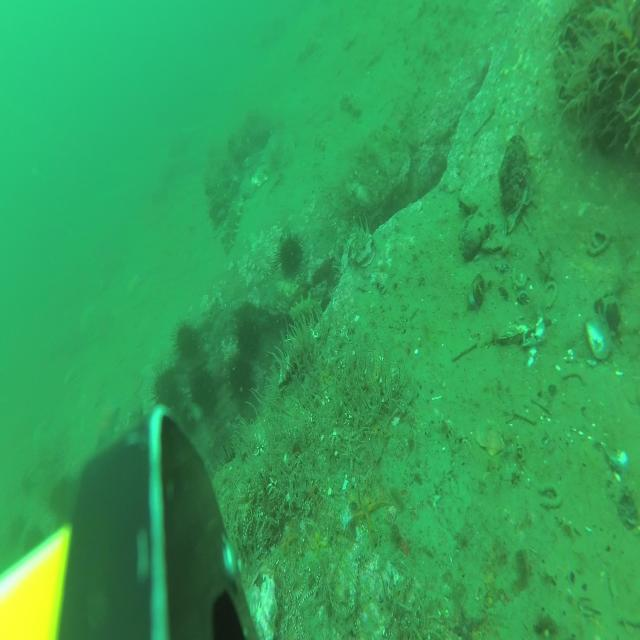echinus: (277, 230, 305, 280), (49, 478, 76, 522), (230, 360, 254, 406), (173, 321, 198, 364), (153, 369, 180, 408), (193, 369, 215, 414), (238, 320, 259, 361), (223, 448, 244, 488), (24, 527, 44, 561)
holothurian: (223, 193, 243, 260), (290, 295, 322, 323), (342, 93, 362, 118), (297, 38, 317, 63), (314, 134, 327, 153)
scallop: (476, 418, 506, 458), (342, 22, 358, 49), (252, 164, 270, 187)
starfish: (353, 481, 389, 533), (305, 517, 329, 562), (281, 524, 295, 552)
